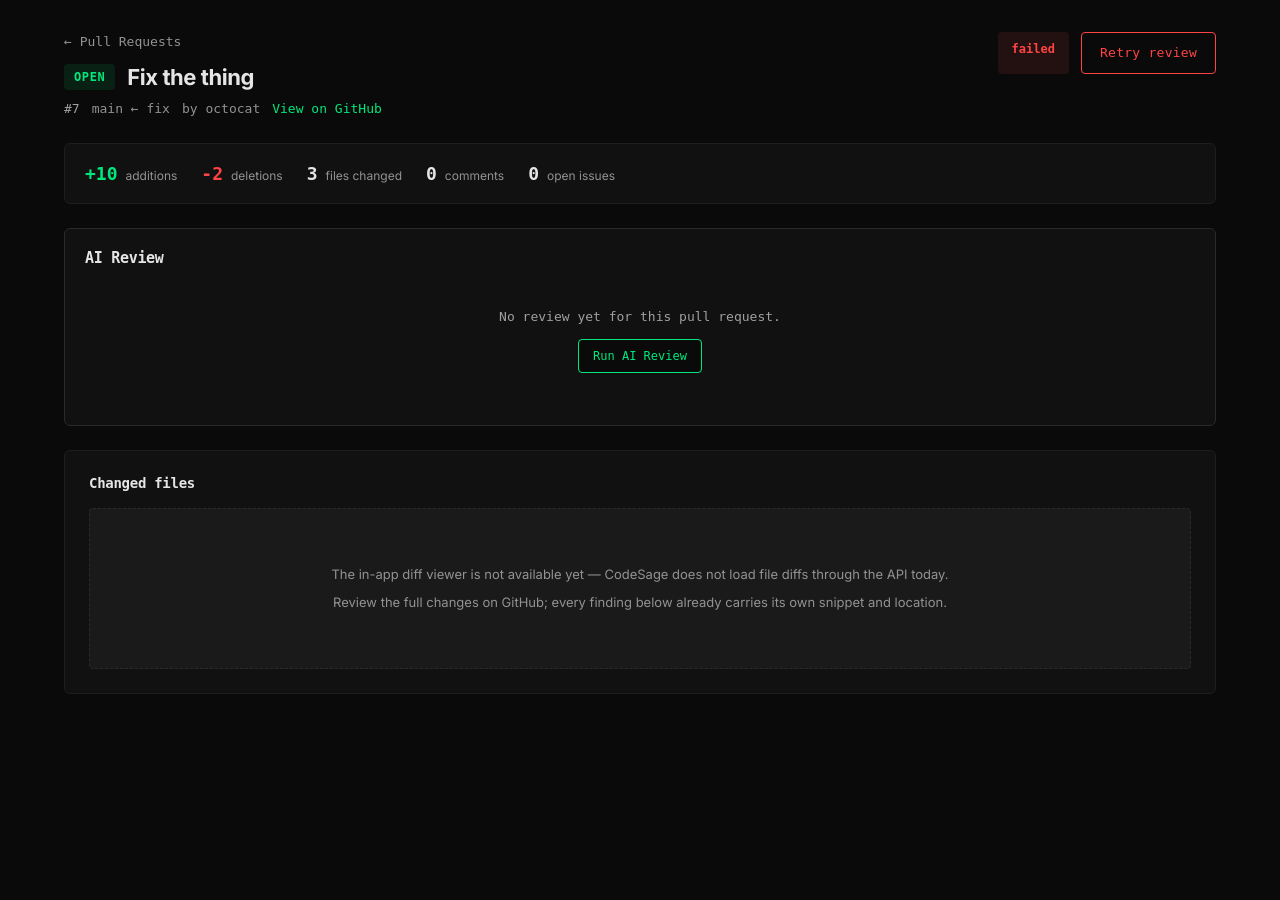
Test: PrDetailComponent — load error state (F3 pre-check b) › Step 7: page shell › offers a confirmed Retry when the latest run failed (write role)
Click the button with test id "retry-review".
click(1148, 53)  # box [1081, 32, 1216, 74]
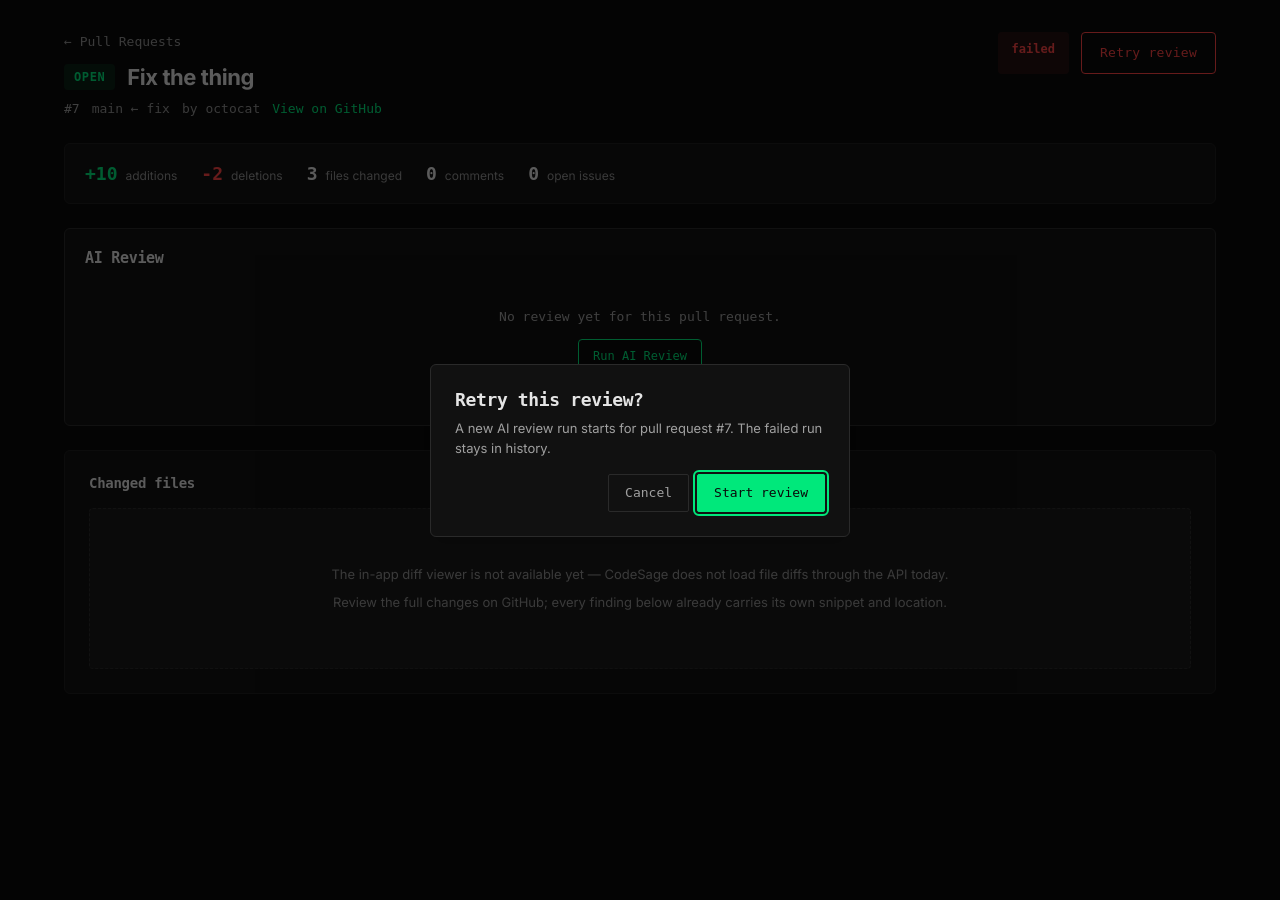
Result: the dialog with test id "retry-dialog" is shown at [430, 364, 850, 536]
Click the button with class "cd-confirm".
click(761, 493)  # box [697, 474, 825, 512]
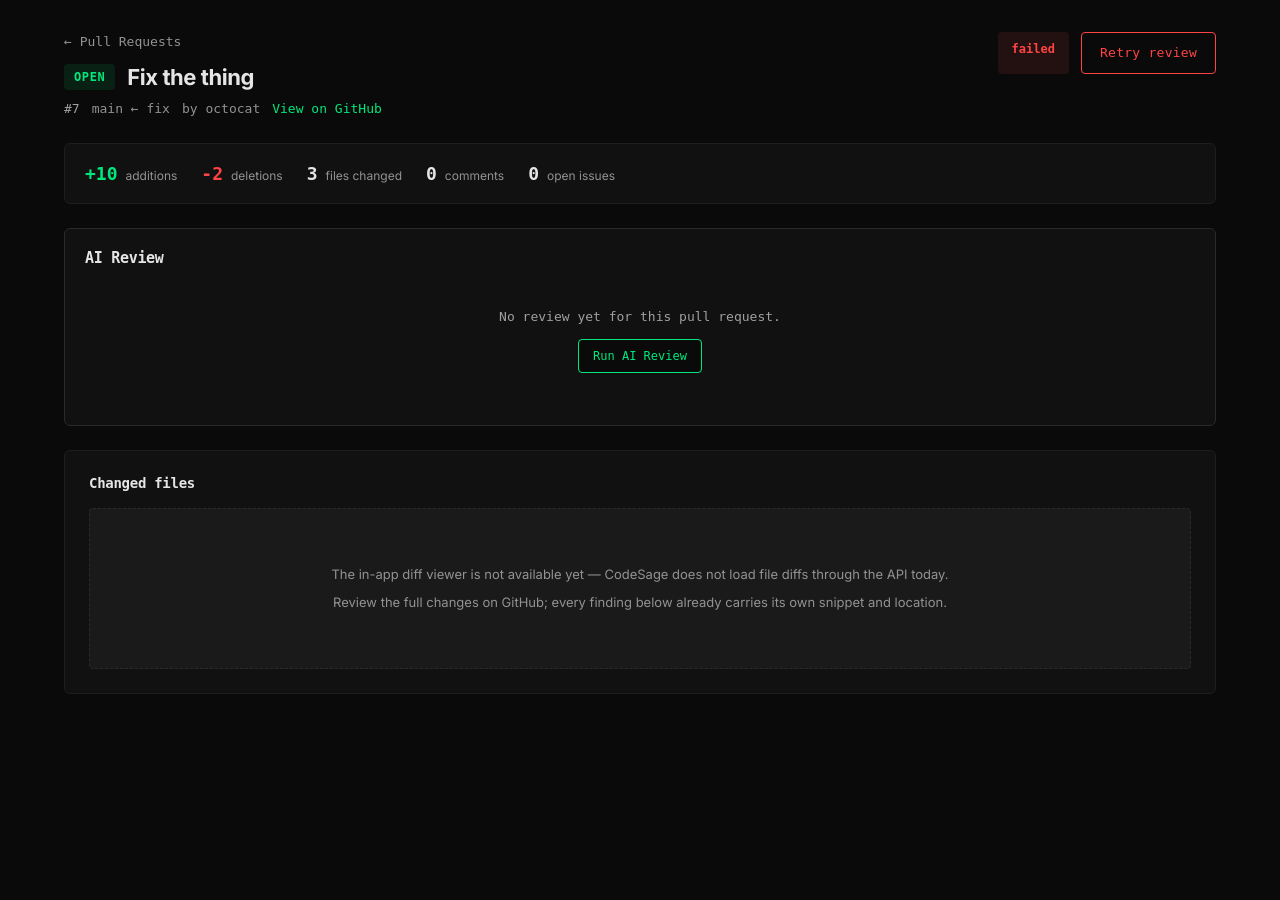
Result: the dialog with test id "retry-dialog" is gone
